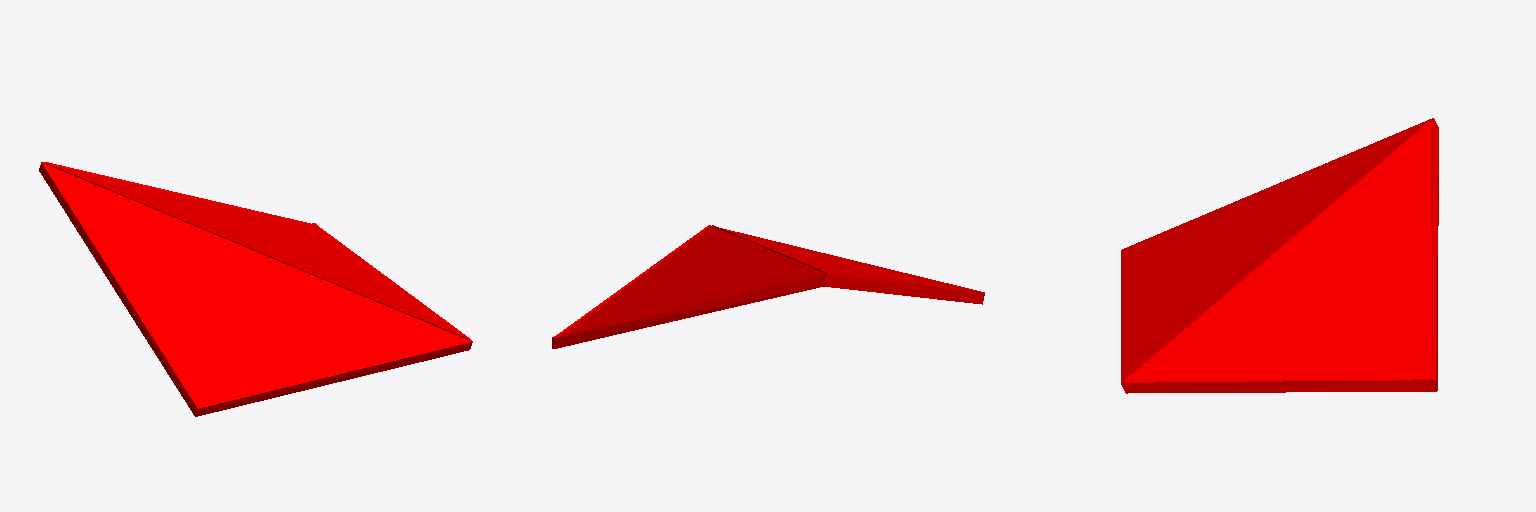
Rendered from simpleRoofCorner.obj.
3 renders of one model, left to right at view 1: azimuth 30°, elevation 25°; view 2: azimuth 150°, elevation 25°; view 3: azimuth 270°, elevation 25°, orthographic.
Visible parts, largest first — view 1: Cube.005_Cube.039; view 2: Cube.005_Cube.039; view 3: Cube.005_Cube.039.
Boxes of the visible parts, box(x1,y1,x2,y2) form: Cube.005_Cube.039: box(39, 162, 472, 416); Cube.005_Cube.039: box(552, 225, 984, 348); Cube.005_Cube.039: box(1121, 118, 1438, 393).
Size of the model in its own units: 1 by 0.4962 by 1.